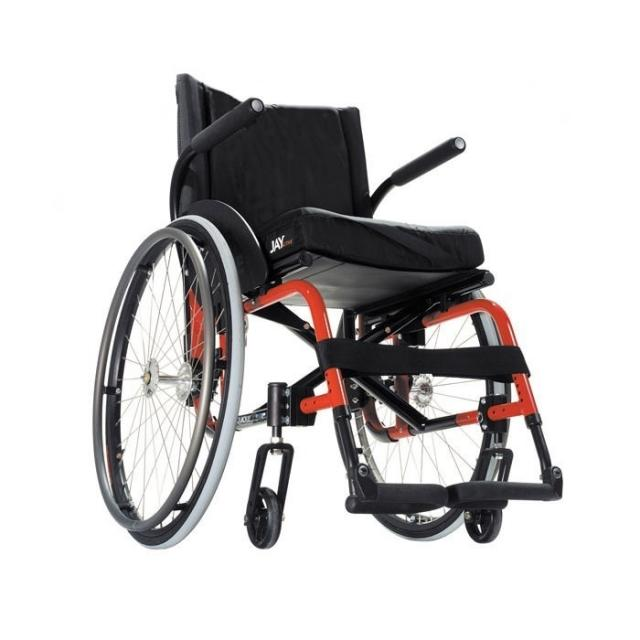wheelchair: (85, 64, 576, 562)
